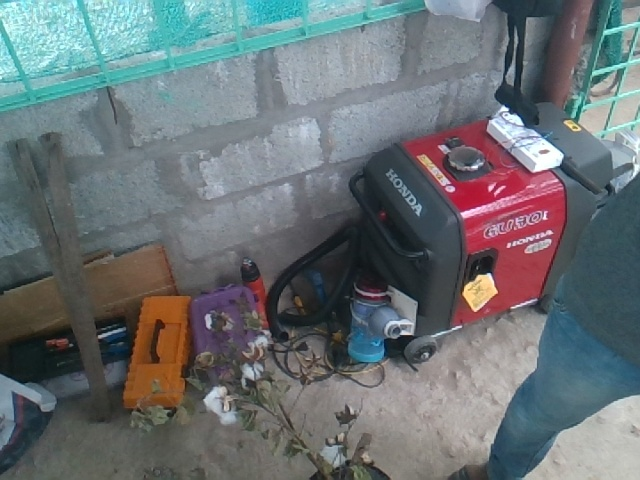cotton: (203, 387, 233, 420)
